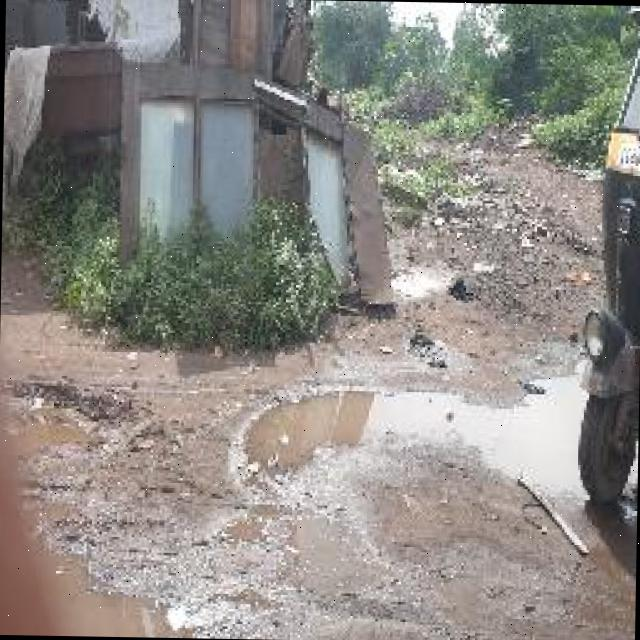stagnation: (221, 386, 565, 502)
